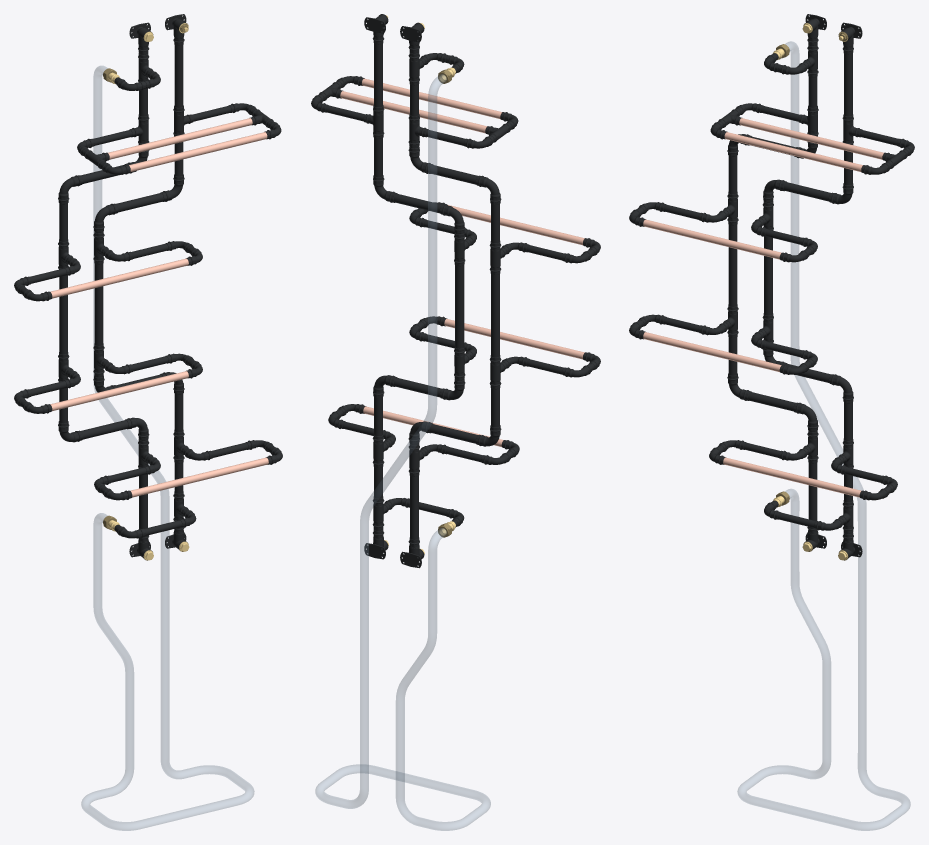
File: caldera.glb
The picture shows the model from 3 angles, left to right: view 1: azimuth 30°, elevation 25°; view 2: azimuth 150°, elevation 25°; view 3: azimuth 330°, elevation 25°; orthographic projection.
Parts seen in each view (by area): view 1: Rib.5, Pad.005, Pad.081, Pad.075, Pad.033, Pad.061, Pad.047, Pad.011, Pad.015, Pad.019; view 2: Rib.5, Pad.005, Pad.081, Pad.033, Pad.075, Pad.061, Pad.011, Pad.015, Pad.019, Pad.009; view 3: Rib.5, Pad.005, Pad.081, Pad.033, Pad.075, Pad.047, Pad.061, Pad.011, Pad.015, Pad.019.
Boxes of the visible parts, x1=… form: Rib.5: x1=81, y1=66, x2=254, y2=830; Pad.005: x1=59, y1=203, x2=67, y2=423; Pad.081: x1=108, y1=118, x2=252, y2=159; Pad.075: x1=129, y1=132, x2=267, y2=171; Pad.033: x1=50, y1=371, x2=188, y2=411; Pad.061: x1=50, y1=258, x2=188, y2=298; Pad.047: x1=130, y1=457, x2=268, y2=497; Pad.011: x1=174, y1=45, x2=183, y2=176; Pad.015: x1=94, y1=232, x2=103, y2=377; Pad.019: x1=174, y1=393, x2=183, y2=493; Rib.5: x1=315, y1=74, x2=490, y2=830; Pad.005: x1=491, y1=204, x2=499, y2=427; Pad.081: x1=340, y1=91, x2=486, y2=133; Pad.033: x1=444, y1=319, x2=584, y2=359; Pad.075: x1=362, y1=78, x2=501, y2=119; Pad.061: x1=448, y1=205, x2=584, y2=245; Pad.011: x1=374, y1=43, x2=382, y2=177; Pad.015: x1=455, y1=233, x2=464, y2=380; Pad.019: x1=374, y1=397, x2=382, y2=530; Pad.009: x1=410, y1=443, x2=418, y2=539; Rib.5: x1=737, y1=41, x2=910, y2=830; Pad.005: x1=728, y1=155, x2=737, y2=375; Pad.081: x1=739, y1=118, x2=883, y2=159; Pad.033: x1=643, y1=332, x2=781, y2=372; Pad.075: x1=724, y1=132, x2=862, y2=171; Pad.047: x1=723, y1=457, x2=861, y2=497; Pad.061: x1=643, y1=219, x2=781, y2=259; Pad.011: x1=844, y1=53, x2=852, y2=185; Pad.015: x1=764, y1=201, x2=772, y2=315; Pad.019: x1=844, y1=402, x2=852, y2=534.
Size of the model in its own units: 0.7239 by 2.09 by 0.274.
